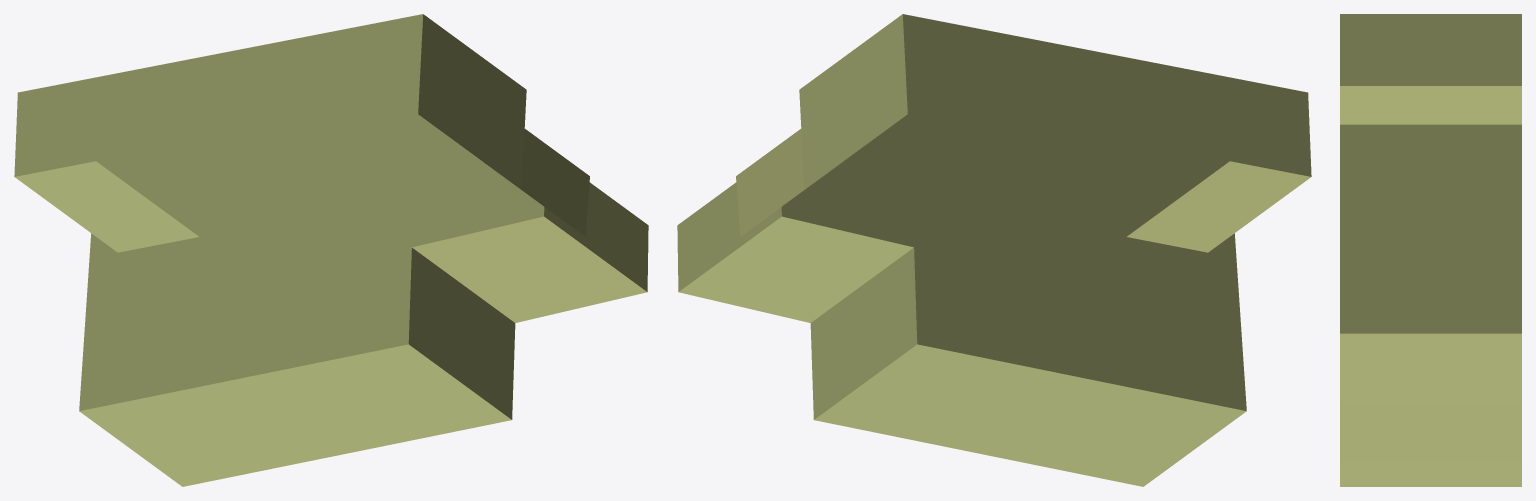
3 views of the same model, side by side, from view 1: azimuth 30°, elevation 25°; view 2: azimuth 150°, elevation 25°; view 3: azimuth 270°, elevation 25° (orthographic). The views are drawn at different scales.
Parts seen in each view (by area): view 1: 0_0_3_2_0_1_0_0_0; view 2: 0_0_3_2_0_1_0_0_0; view 3: 0_0_3_2_0_1_0_0_0.
Boxes of the visible parts, bbox=[...] form: 0_0_3_2_0_1_0_0_0: bbox=[14, 14, 648, 486]; 0_0_3_2_0_1_0_0_0: bbox=[677, 14, 1311, 486]; 0_0_3_2_0_1_0_0_0: bbox=[1340, 14, 1521, 486].
Size of the model in its own units: 26.65 by 16.66 by 9.
